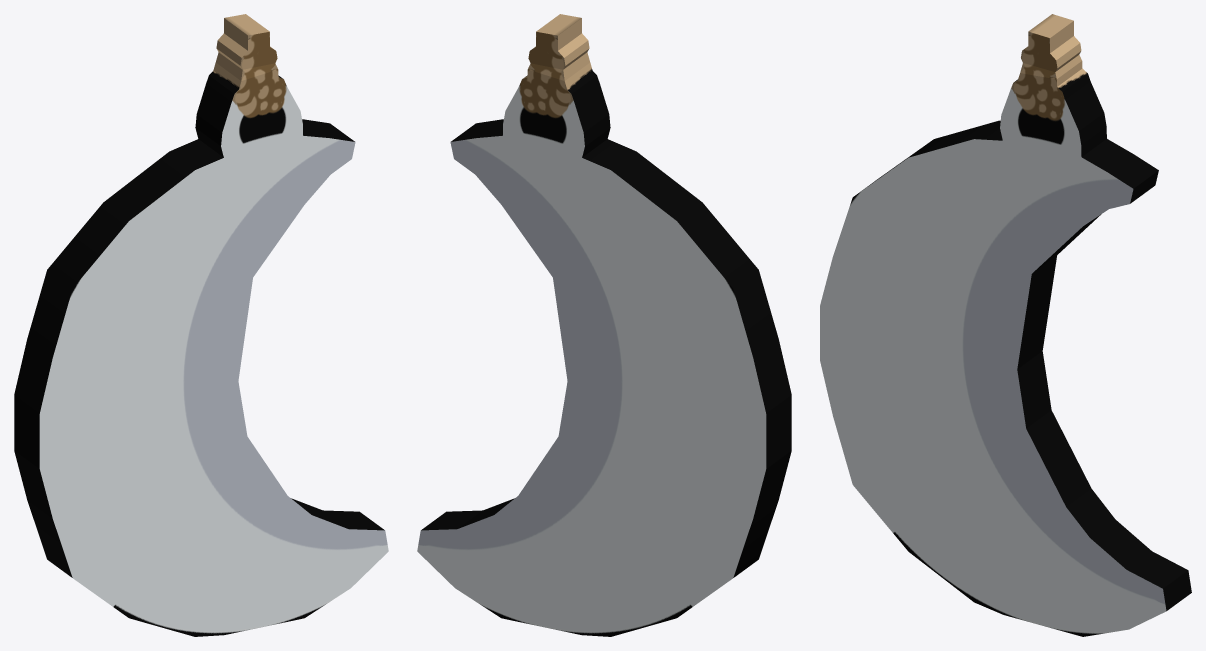
File: Model_moon_NEW.fbx
3 views of the same model, side by side, from view 1: azimuth 30°, elevation 25°; view 2: azimuth 150°, elevation 25°; view 3: azimuth 330°, elevation 25° (orthographic).
Parts seen in each view (by area): view 1: pCube1; view 2: pCube1; view 3: pCube1.
Boxes of the visible parts, x1,y1,x2,y2 form: pCube1: [14, 14, 388, 636]; pCube1: [417, 14, 791, 636]; pCube1: [820, 14, 1191, 636].
Size of the model in its own units: 5.34 by 8.7 by 0.6777.
Materials: 1 (1 with a texture image).
